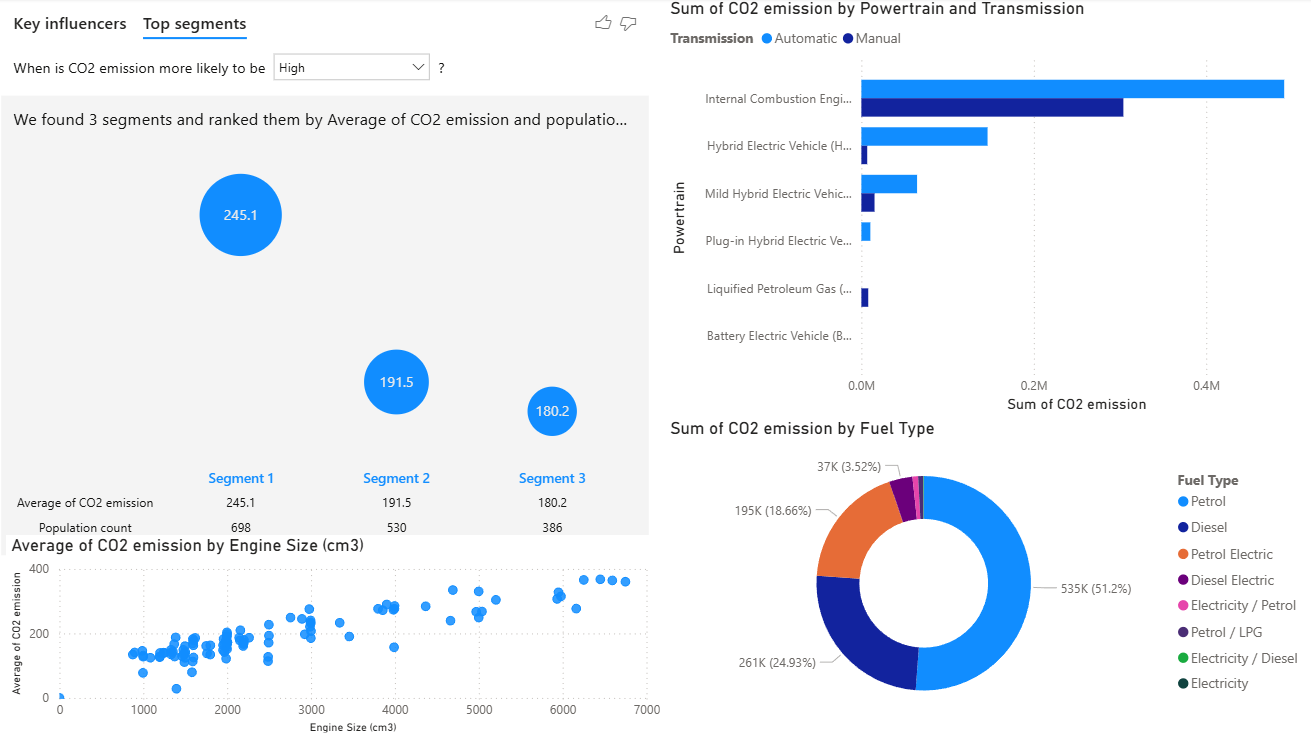

The dashboard page shown, as its layout file describes it:
{"tool":"powerbi","page":{"name":"Page 1","canvas":[1280,720],"ordinal":0},"visuals":[{"type":"keyDriversVisual","fields":{"Target":["Vehicles.CO2 emission"],"ExplainBy":["Sum(Vehicles.Engine Size (cm3))","Vehicles.Fuel Type","Vehicles.Powertrain","Vehicles.Transmission"]},"box":[9.7,0,568,467.8],"z":0},{"type":"scatterChart","fields":{"X":["Vehicles.Engine Size (cm3)"],"Y":["Avg(Vehicles.CO2 emission)"]},"box":[9.7,467.8,568,251.9],"z":1000},{"type":"clusteredBarChart","fields":{"Category":["Vehicles.Powertrain"],"Series":["Vehicles.Transmission"],"Y":["Sum(Vehicles.CO2 emission)"]},"box":[577.8,0,702.2,408.5],"z":2000},{"type":"donutChart","fields":{"Category":["Vehicles.Fuel Type"],"Y":["Sum(Vehicles.CO2 emission)"]},"box":[577.8,425,702.2,286],"z":3000}]}

Visuals, with their boxes in screenshot pixels (x1, y1, x2, y2), scaled from the page's 1280x720 canvas onto the 1311x735 screenshot:
keyDriversVisual - Vehicles.CO2 emission x Sum(Vehicles.Engine Size (cm3)): x1=10 y1=0 x2=592 y2=478
scatterChart - Vehicles.Engine Size (cm3) x Avg(Vehicles.CO2 emission): x1=10 y1=478 x2=592 y2=734
clusteredBarChart - Vehicles.Powertrain x Vehicles.Transmission: x1=592 y1=0 x2=1310 y2=417
donutChart - Vehicles.Fuel Type x Sum(Vehicles.CO2 emission): x1=592 y1=434 x2=1310 y2=726
